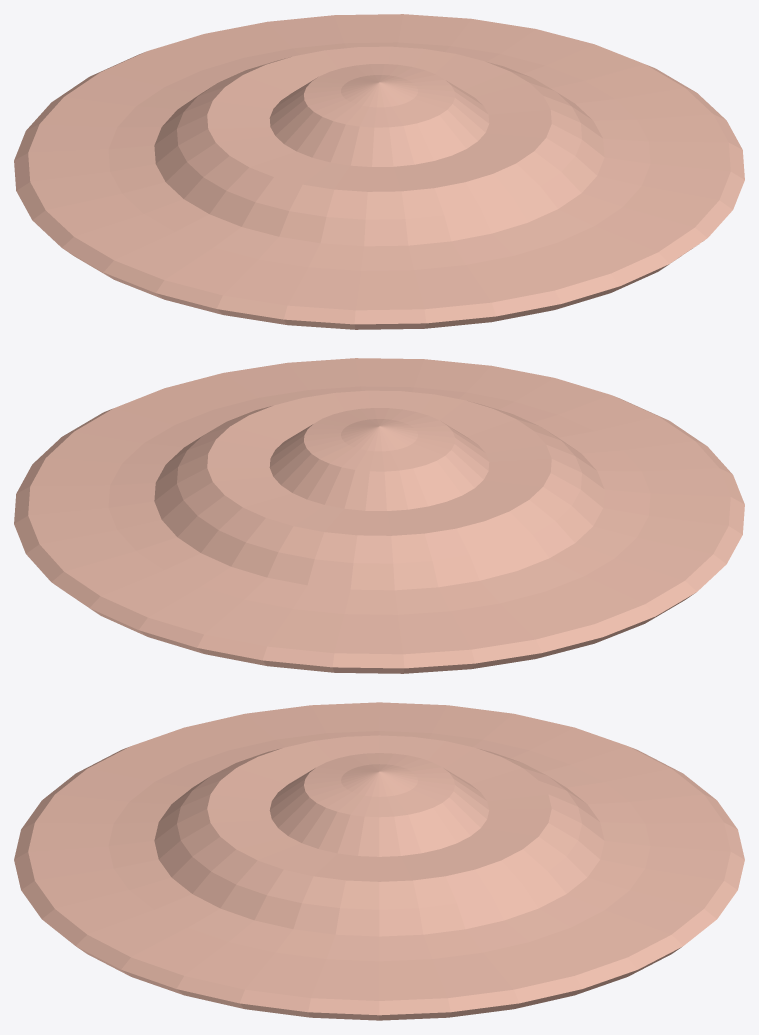
File: UFO MODEL.glb
3 renders of one model, top to bottom at view 1: azimuth 30°, elevation 25°; view 2: azimuth 150°, elevation 25°; view 3: azimuth 270°, elevation 25°, orthographic.
Parts seen in each view (by area): view 1: Sphere; view 2: Sphere; view 3: Sphere.
Boxes of the visible parts, box(x1,y1,x2,y2) form: Sphere: box(14, 14, 744, 329); Sphere: box(14, 358, 744, 673); Sphere: box(14, 702, 744, 1020).
Bounding box in the file's own units: 19.58 × 4.74 × 19.47.
